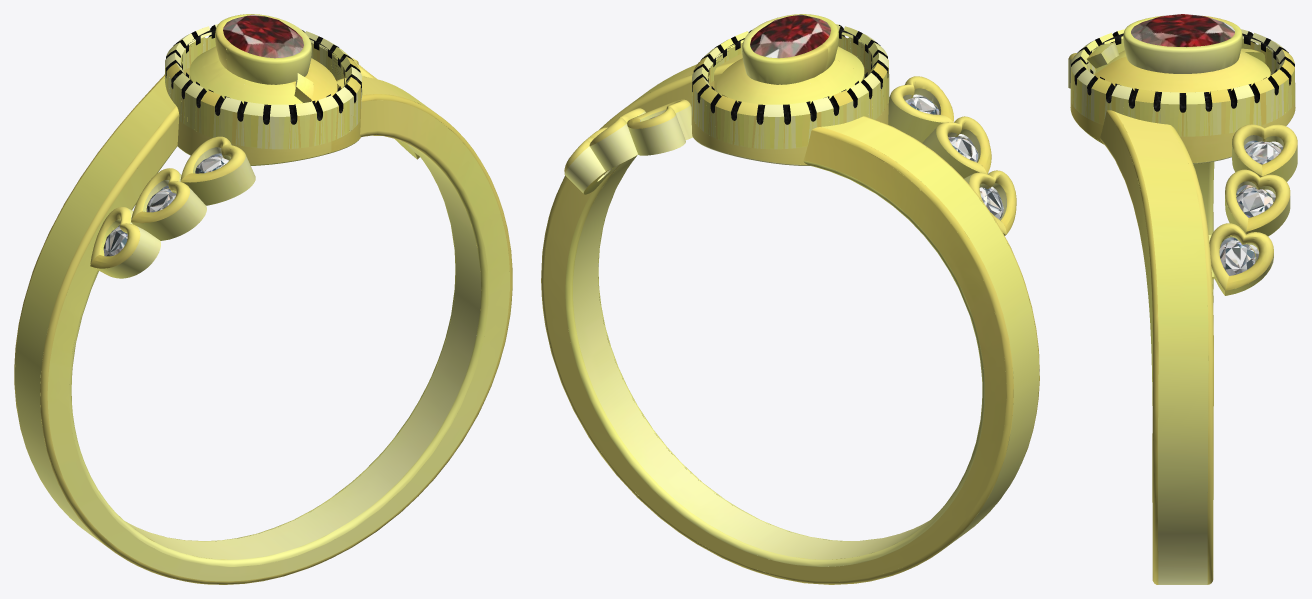
The model's file is ring4-transformed.glb.
The picture shows the model from 3 angles, left to right: view 1: azimuth 30°, elevation 25°; view 2: azimuth 150°, elevation 25°; view 3: azimuth 270°, elevation 25°; orthographic projection.
Visible parts, largest first — view 1: body, core, black, diamond_stones; view 2: body, core, black, diamond_stones; view 3: body, diamond_stones, core, black.
Part boxes in pixels (x1=…): body: x1=14, y1=14, x2=512, y2=584; core: x1=223, y1=14, x2=303, y2=58; black: x1=165, y1=25, x2=361, y2=124; diamond_stones: x1=103, y1=153, x2=228, y2=256; body: x1=541, y1=14, x2=1039, y2=584; core: x1=750, y1=14, x2=830, y2=58; black: x1=692, y1=25, x2=888, y2=124; diamond_stones: x1=604, y1=94, x2=1003, y2=219; body: x1=1068, y1=15, x2=1297, y2=584; diamond_stones: x1=1219, y1=140, x2=1283, y2=275; core: x1=1131, y1=14, x2=1234, y2=46; black: x1=1071, y1=31, x2=1294, y2=112.
Bounding box in the file's own units: 29.41 × 32.15 × 12.48.
4 materials, 4 textured.
